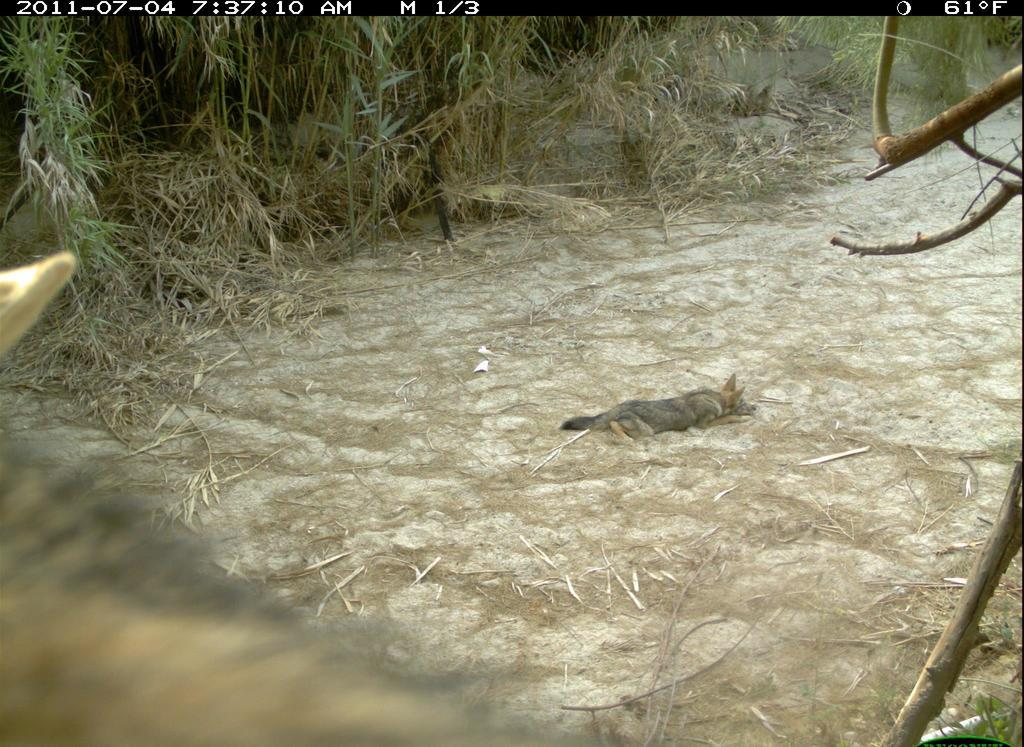coyote: (1, 241, 598, 747), (561, 360, 780, 472)
